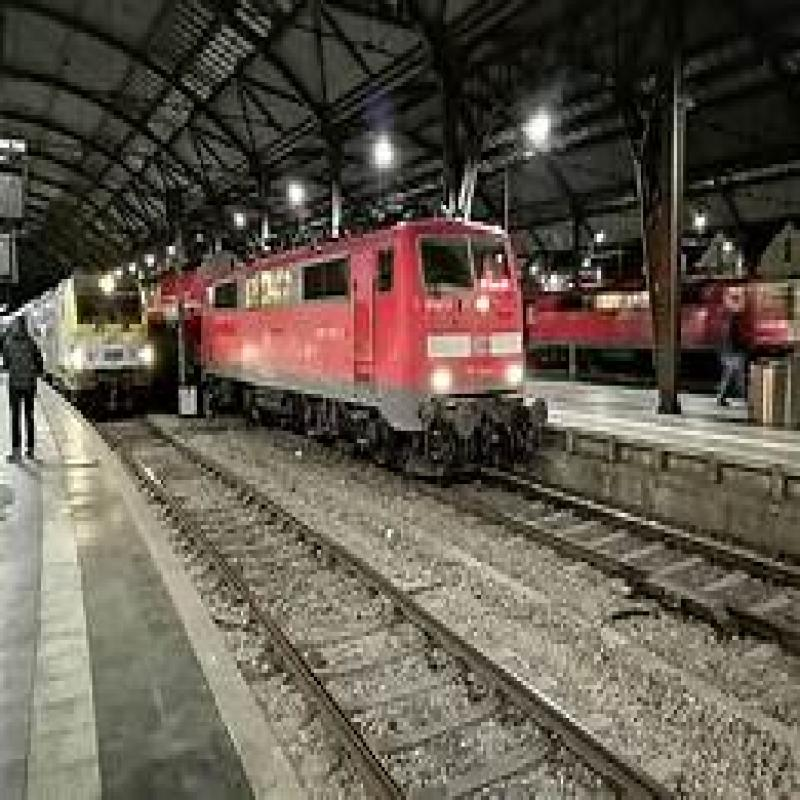train: (183, 231, 540, 477)
